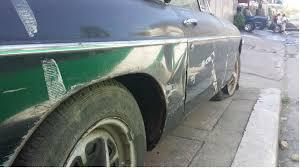quaterpanel-dent: (83, 10, 187, 113)
